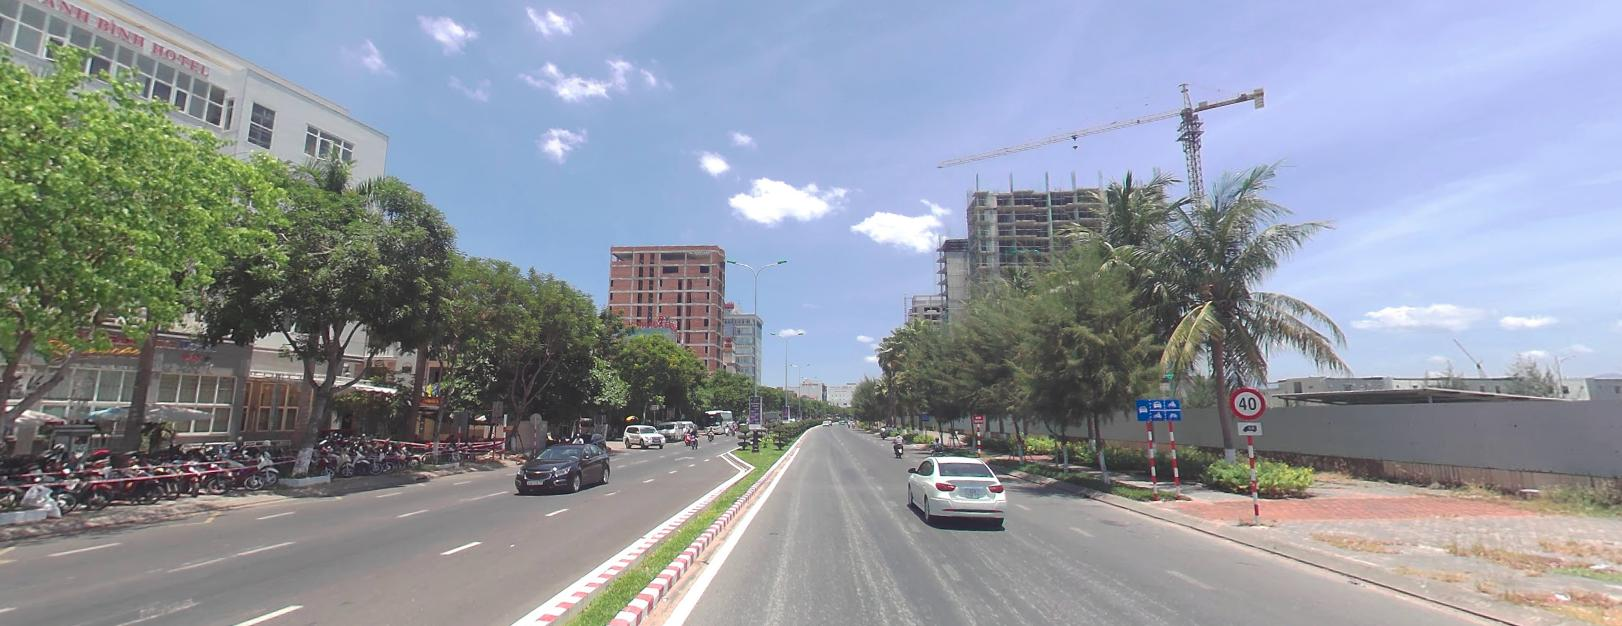Gioi han toc do: (1229, 389, 1266, 418)
